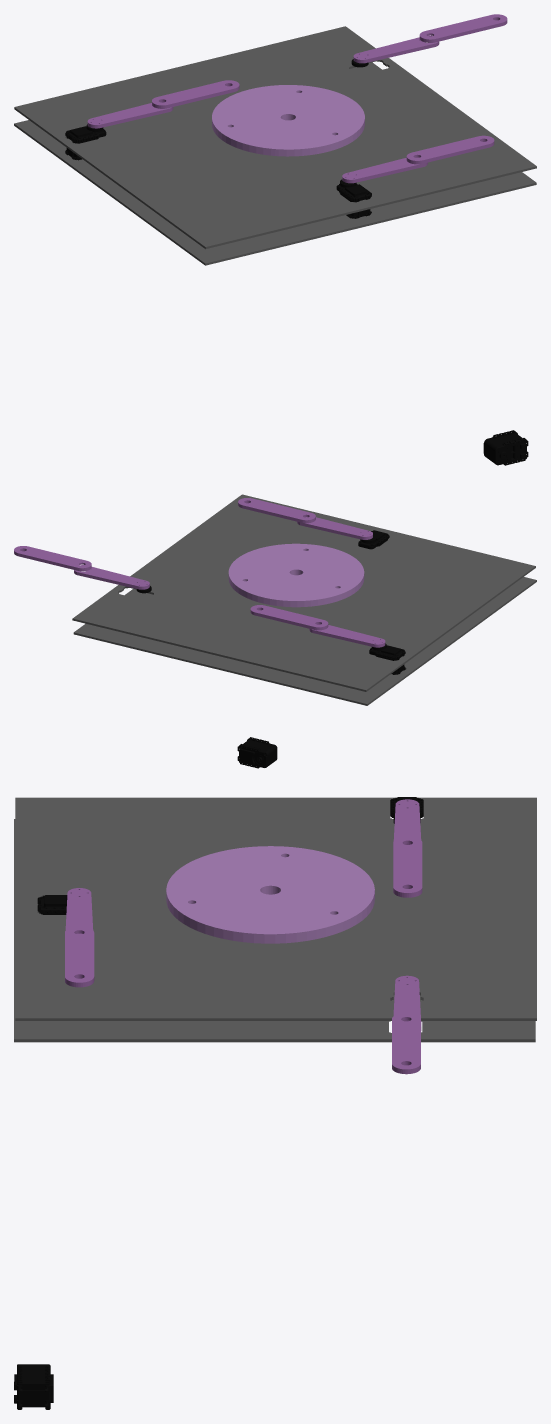
The model's file is Ensamble-1-1blend.fbx.
3 views of the same model, one above another, from view 1: azimuth 30°, elevation 25°; view 2: azimuth 150°, elevation 25°; view 3: azimuth 270°, elevation 25° (orthographic). The views are drawn at different scales.
Visible parts, largest first — view 1: Ensamble Cero - Base Fija-2, Ensamble Cero - basemovil-1, Ensamble Cero - Motor-4 Motor Base-1, Ensamble Cero - braso2-1, Ensamble Cero - braso2-2, Ensamble Cero - braso2-3, Ensamble Cero - braso1-2, Ensamble Cero - braso1-3, Ensamble Cero - braso1-1, Ensamble Cero - Motor-1 Motor Base-1, Ensamble Cero - Motor-3 Motor Base-1; view 2: Ensamble Cero - Base Fija-2, Ensamble Cero - basemovil-1, Ensamble Cero - Motor-4 Motor Base-1, Ensamble Cero - braso2-3, Ensamble Cero - braso2-2, Ensamble Cero - braso2-1, Ensamble Cero - braso1-2, Ensamble Cero - braso1-3, Ensamble Cero - braso1-1, Ensamble Cero - Motor-3 Motor Base-1; view 3: Ensamble Cero - Base Fija-2, Ensamble Cero - basemovil-1, Ensamble Cero - braso2-3, Ensamble Cero - braso2-1, Ensamble Cero - braso2-2, Ensamble Cero - Motor-4 Motor Base-1, Ensamble Cero - braso1-1, Ensamble Cero - braso1-2, Ensamble Cero - braso1-3.
Part boxes in pixels (bbox=[...]): Ensamble Cero - Base Fija-2: bbox=[14, 26, 536, 265]; Ensamble Cero - basemovil-1: bbox=[212, 85, 364, 156]; Ensamble Cero - Motor-4 Motor Base-1: bbox=[483, 430, 528, 465]; Ensamble Cero - braso2-1: bbox=[406, 135, 494, 164]; Ensamble Cero - braso2-2: bbox=[419, 14, 507, 42]; Ensamble Cero - braso2-3: bbox=[152, 80, 239, 108]; Ensamble Cero - braso1-2: bbox=[353, 35, 439, 63]; Ensamble Cero - braso1-3: bbox=[87, 101, 173, 128]; Ensamble Cero - braso1-1: bbox=[342, 157, 427, 183]; Ensamble Cero - Motor-1 Motor Base-1: bbox=[336, 184, 371, 218]; Ensamble Cero - Motor-3 Motor Base-1: bbox=[65, 126, 106, 160]; Ensamble Cero - Base Fija-2: bbox=[72, 494, 536, 705]; Ensamble Cero - basemovil-1: bbox=[228, 543, 364, 607]; Ensamble Cero - Motor-4 Motor Base-1: bbox=[237, 737, 277, 768]; Ensamble Cero - braso2-3: bbox=[250, 605, 328, 630]; Ensamble Cero - braso2-2: bbox=[14, 546, 91, 571]; Ensamble Cero - braso2-1: bbox=[238, 498, 315, 523]; Ensamble Cero - braso1-2: bbox=[74, 565, 149, 589]; Ensamble Cero - braso1-3: bbox=[309, 623, 385, 647]; Ensamble Cero - braso1-1: bbox=[297, 516, 372, 539]; Ensamble Cero - Motor-3 Motor Base-1: bbox=[369, 645, 405, 674]; Ensamble Cero - Base Fija-2: bbox=[14, 797, 536, 1042]; Ensamble Cero - basemovil-1: bbox=[166, 846, 374, 943]; Ensamble Cero - braso2-3: bbox=[393, 836, 422, 897]; Ensamble Cero - braso2-1: bbox=[65, 926, 94, 987]; Ensamble Cero - braso2-2: bbox=[392, 1013, 420, 1074]; Ensamble Cero - Motor-4 Motor Base-1: bbox=[14, 1364, 53, 1409]; Ensamble Cero - braso1-1: bbox=[65, 888, 93, 934]; Ensamble Cero - braso1-2: bbox=[393, 975, 421, 1030]; Ensamble Cero - braso1-3: bbox=[393, 799, 421, 844].
Bounding box in the file's own units: 671 × 448 × 501.
